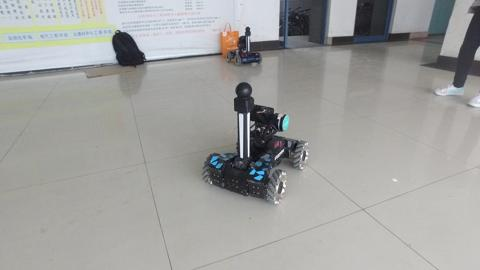bag: (110, 26, 148, 70), (218, 20, 240, 57)
chariot: (201, 81, 310, 205), (224, 24, 263, 66)
